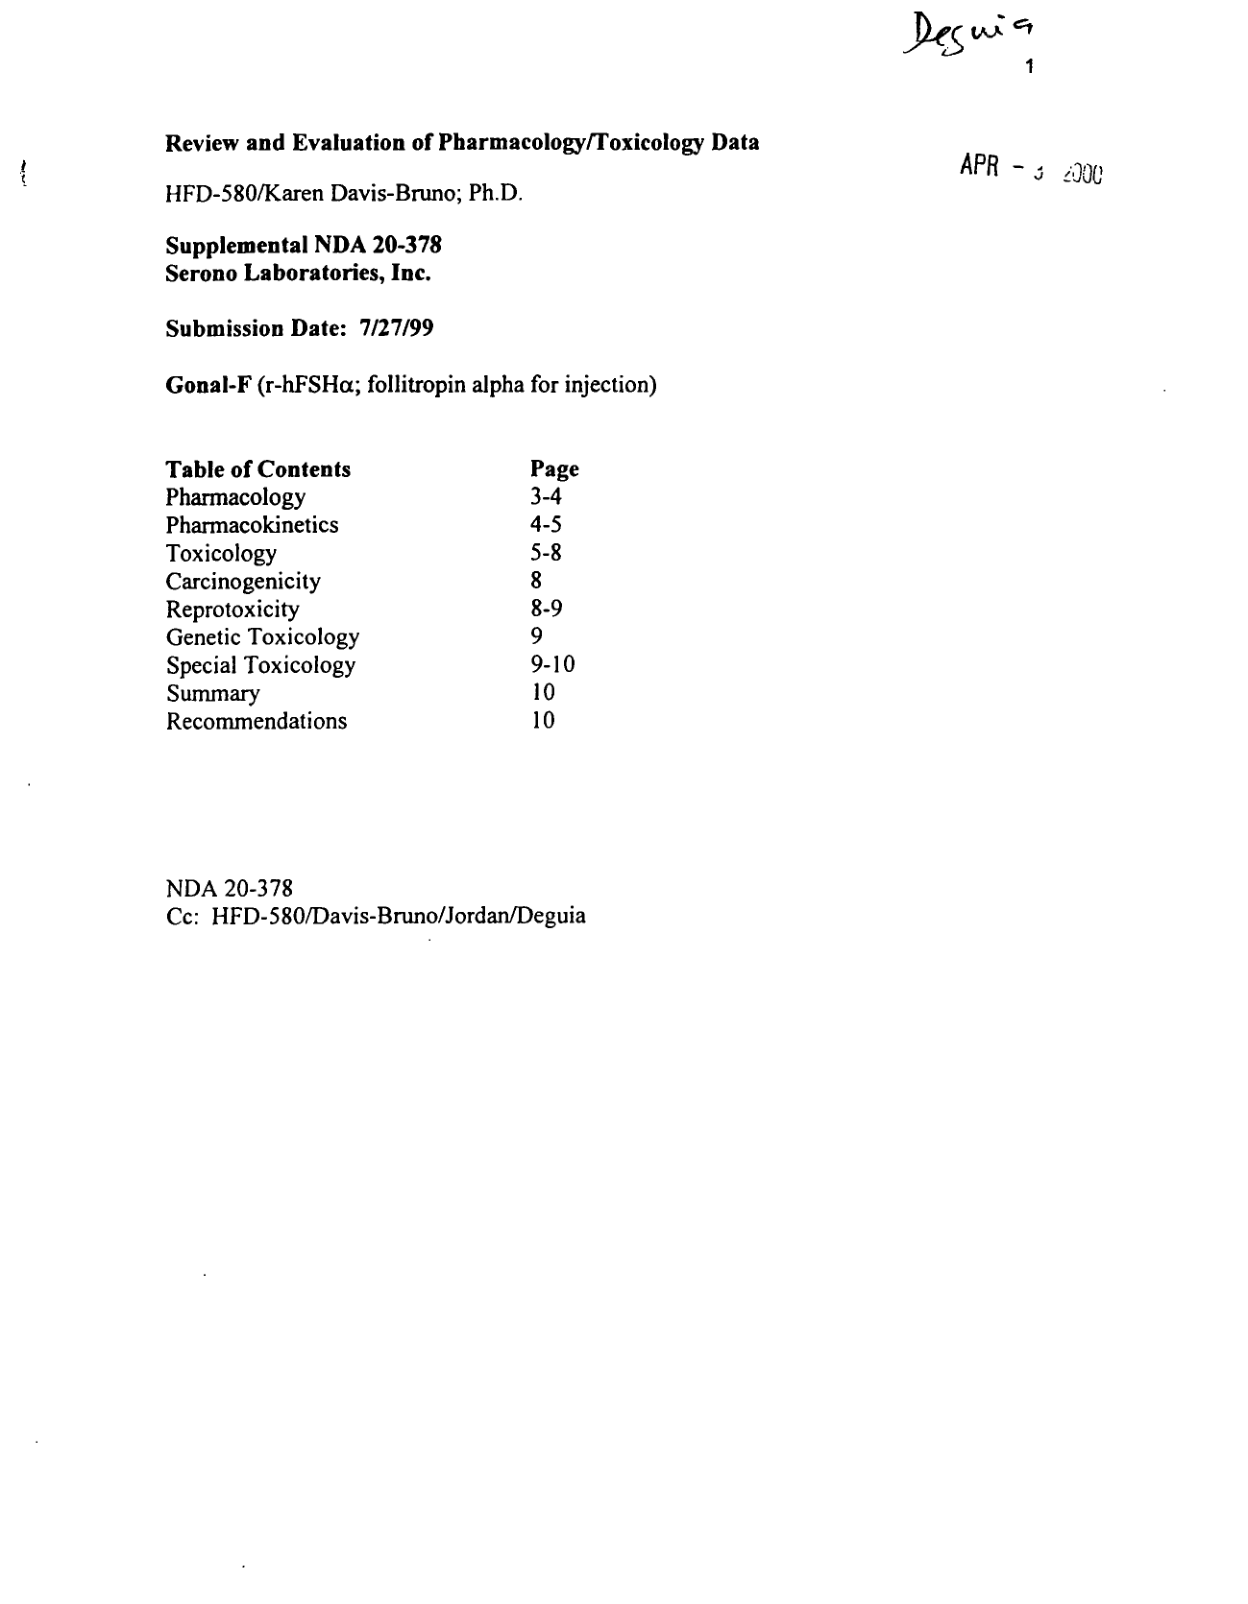nolines: (159, 453, 586, 741)
